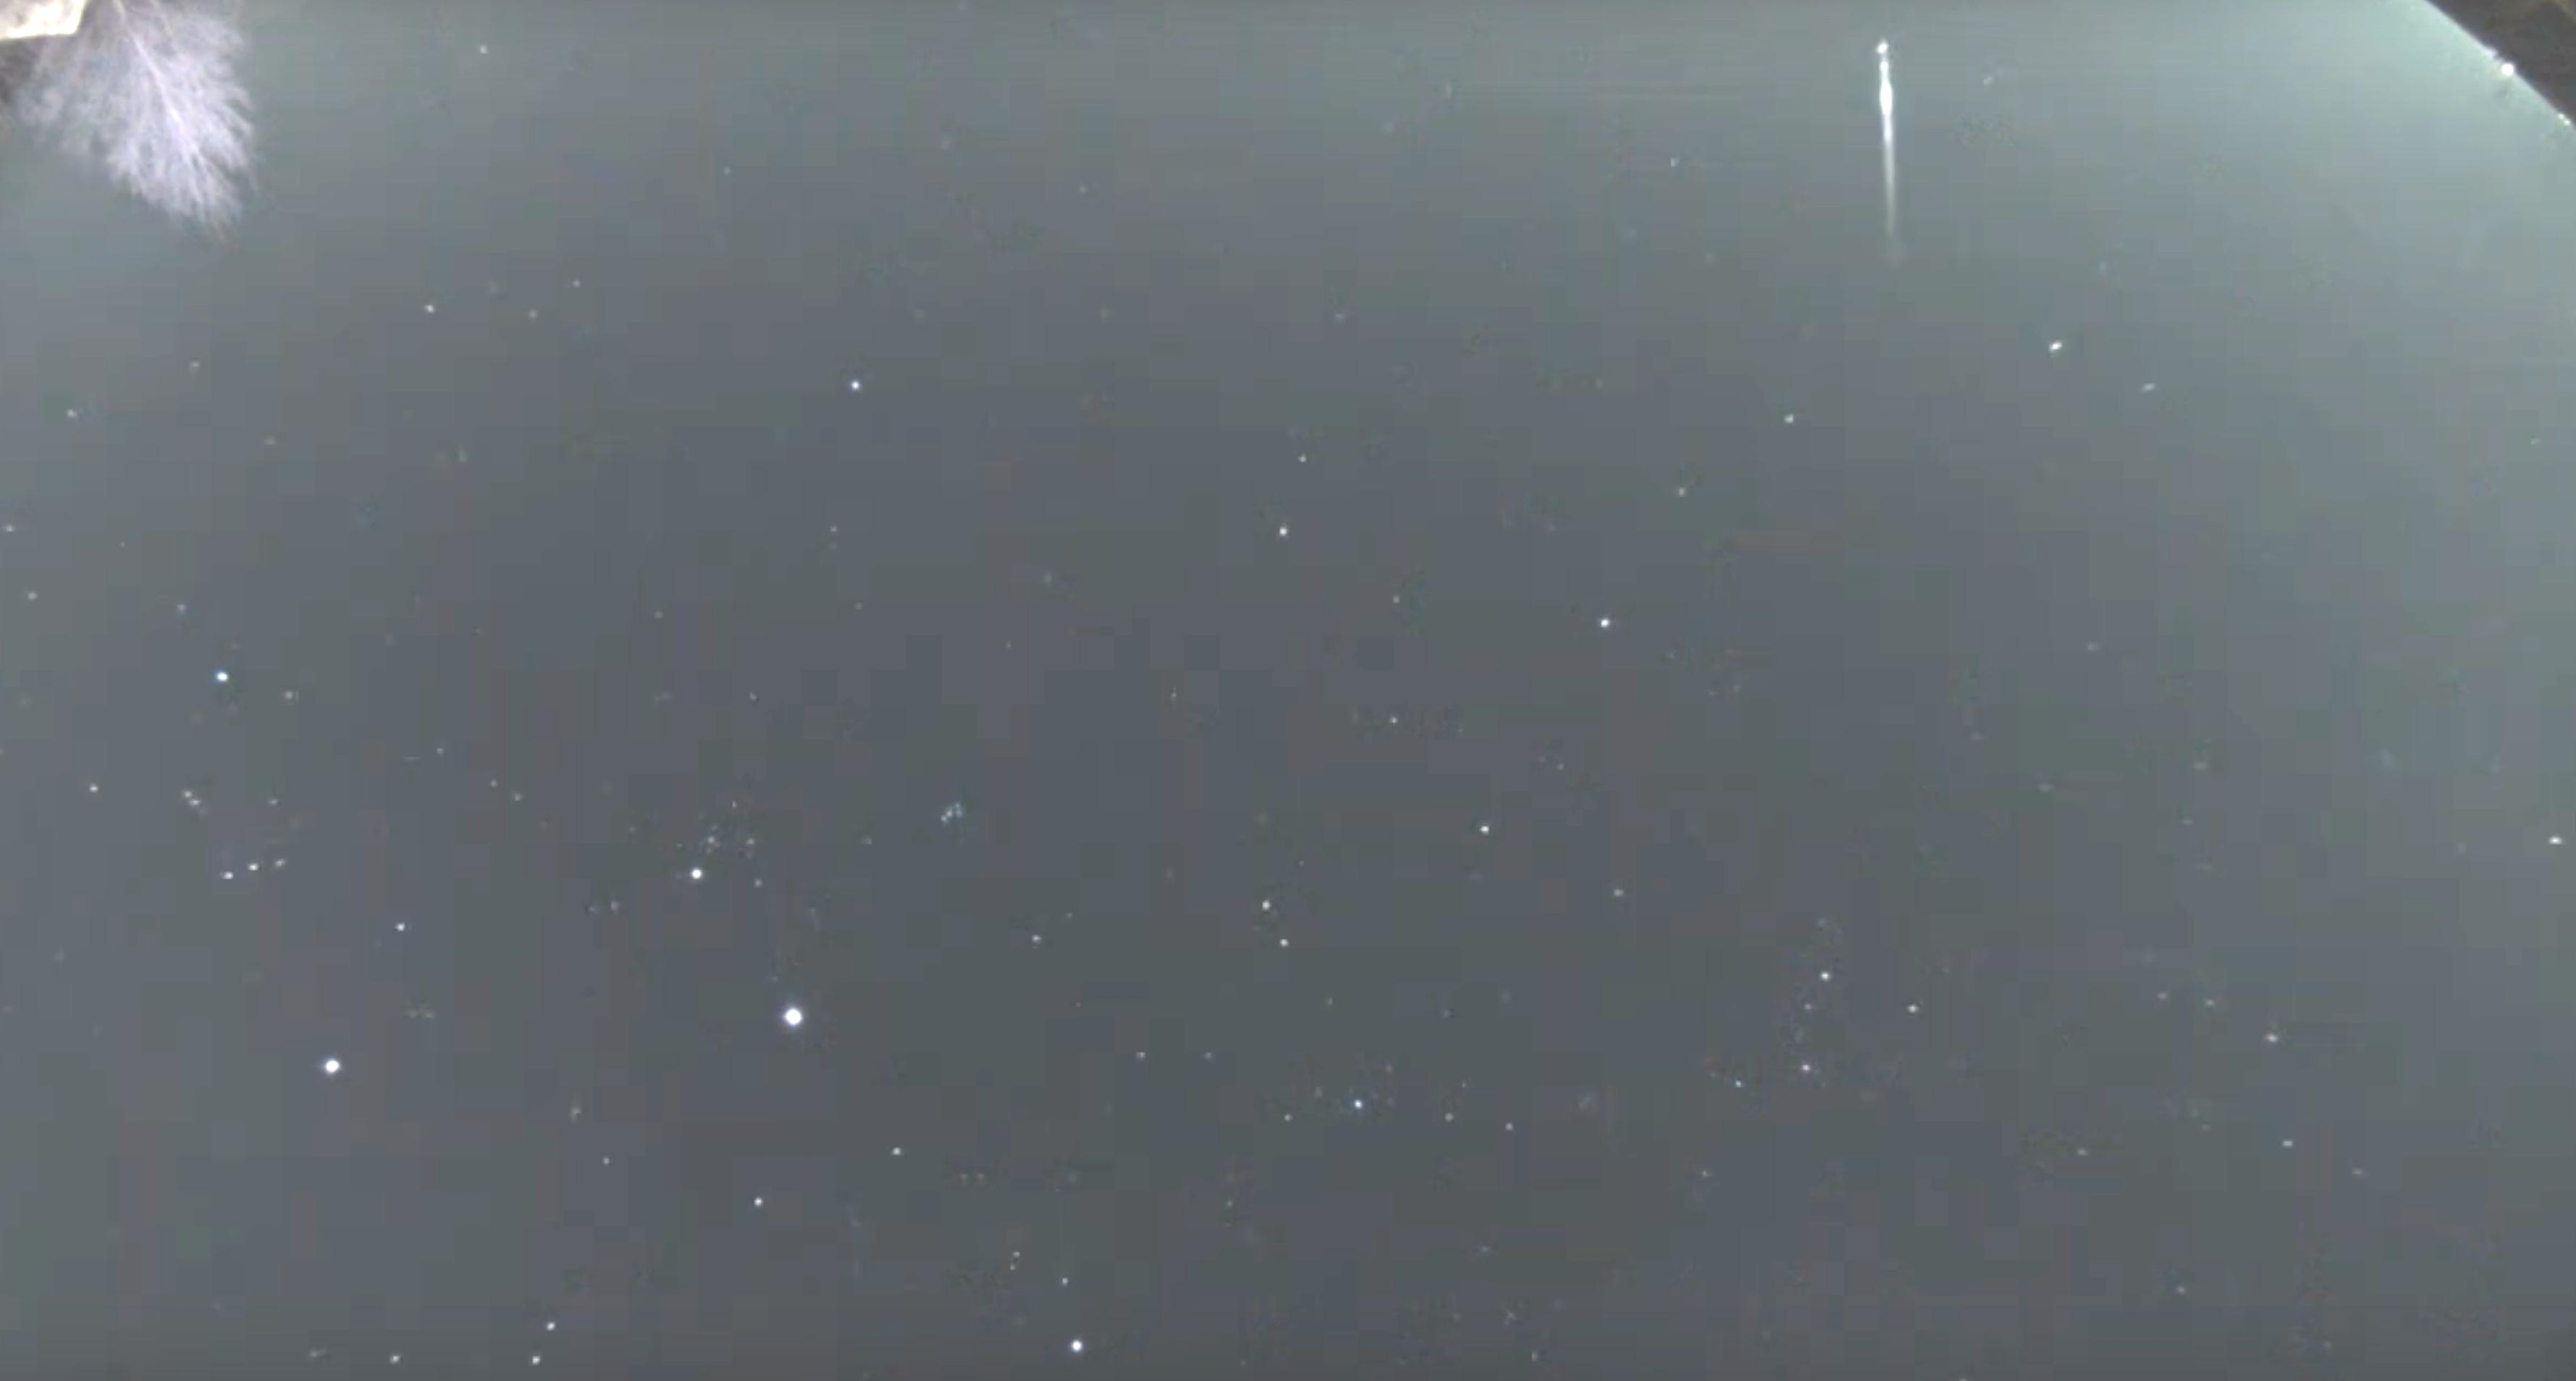meteorite: (1830, 37, 1939, 259)
